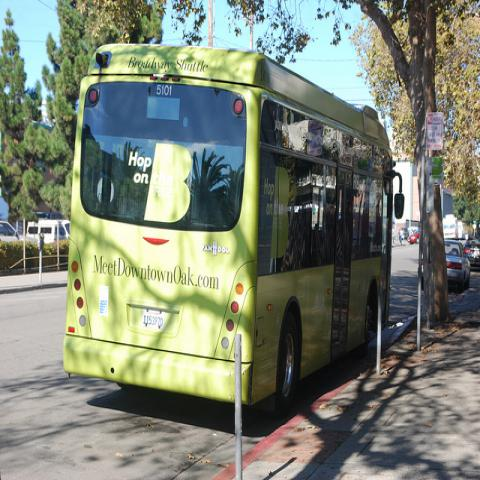bus: (64, 45, 406, 412)
car: (445, 238, 472, 292), (26, 218, 72, 244), (0, 220, 35, 246), (463, 236, 479, 270), (407, 227, 420, 245), (398, 228, 409, 240)
